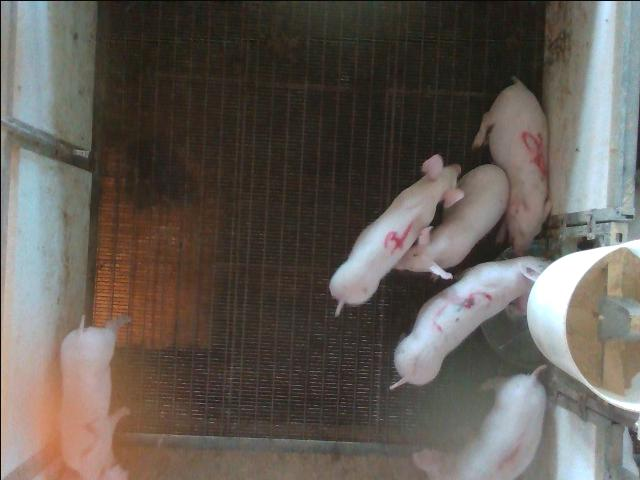pig-1: (459, 365, 545, 479)
pig-2: (60, 314, 129, 479)
pig-3: (390, 255, 548, 388)
pig-4: (329, 154, 462, 314)
pig-5: (471, 76, 550, 254)
